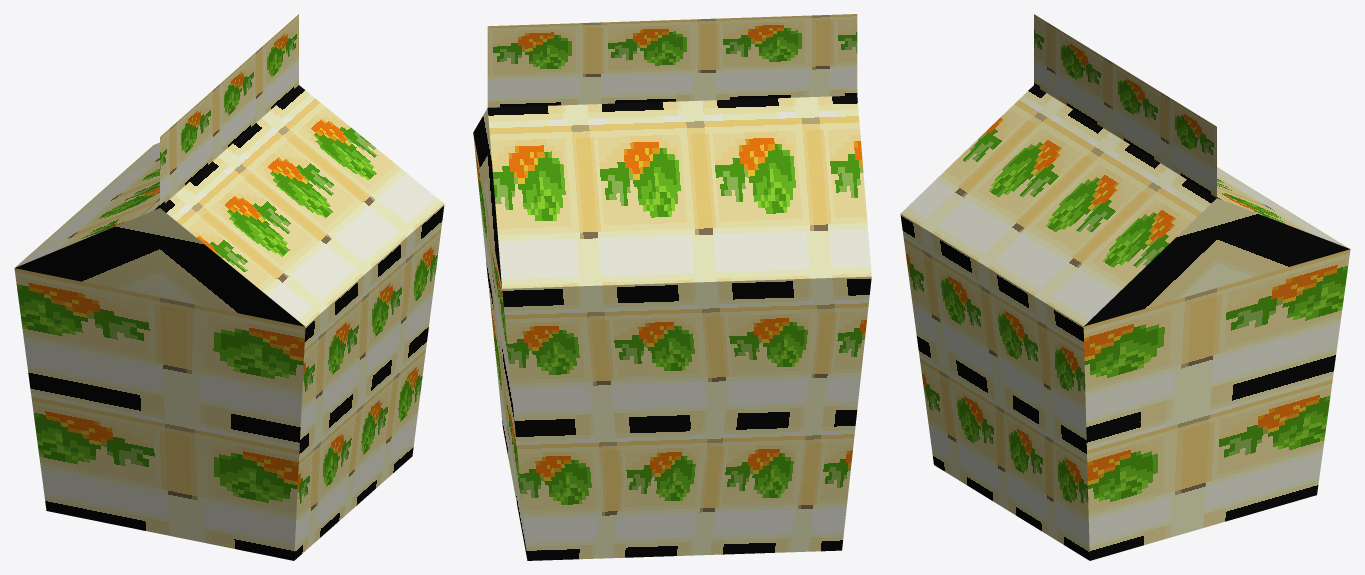
The picture shows the model from 3 angles, left to right: view 1: azimuth 30°, elevation 25°; view 2: azimuth 150°, elevation 25°; view 3: azimuth 270°, elevation 25°; orthographic projection. The views are drawn at different scales.
Visible parts, largest first — view 1: 5213so_sub00; view 2: 5213so_sub00; view 3: 5213so_sub00.
Part boxes in pixels (<box>): 5213so_sub00: <box>14,14,444,560</box>; 5213so_sub00: <box>473,14,871,560</box>; 5213so_sub00: <box>900,14,1350,560</box>.
Size of the model in its own units: 0.583 by 0.5854 by 0.583.
Materials: 1 (1 with a texture image).
